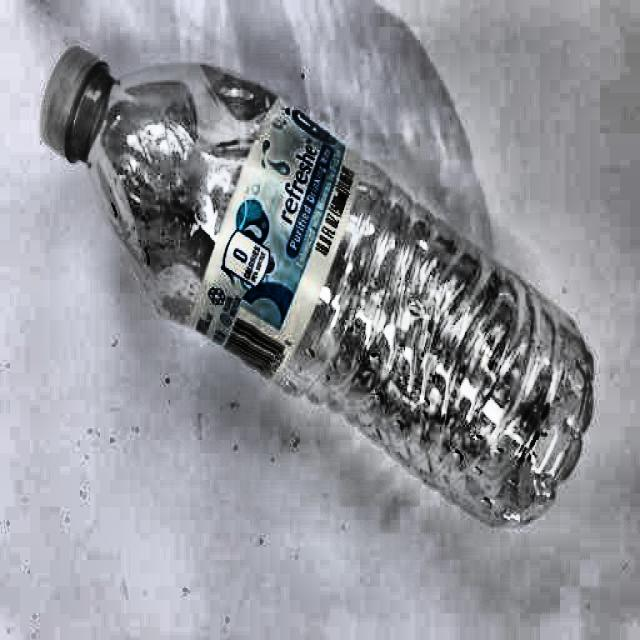plastic: (39, 44, 598, 530)
